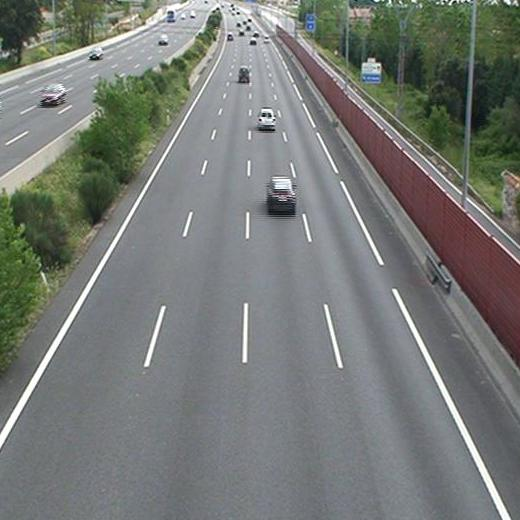car: (268, 179, 295, 208), (258, 109, 276, 129), (238, 68, 250, 82)
